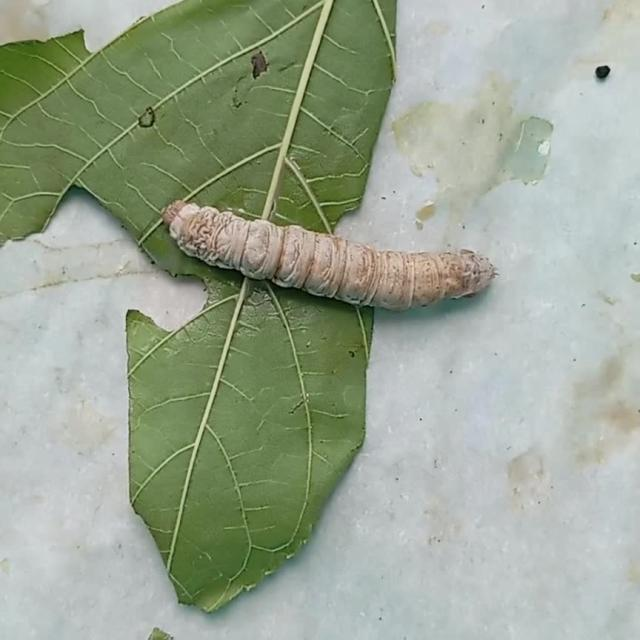Grasserie: (128, 150, 506, 359)
